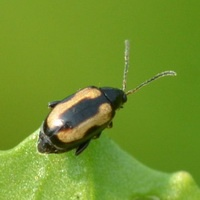insect: (38, 40, 175, 154)
